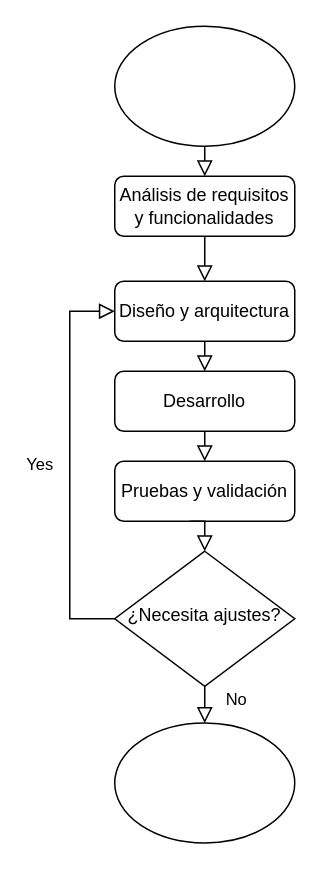
The diagram is 321 pixels wide and 870 high, and some of its shapes have lost their labels. Here are the shapes that lost their labels. From the top down, the box of each, then its label:
(113, 25, 295, 146): Inicio de la iteración
(113, 722, 295, 843): Fin de iteración/Incremento funcional
